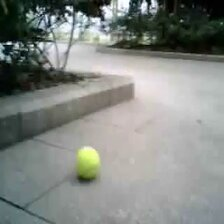tennis: (75, 145, 99, 178)
